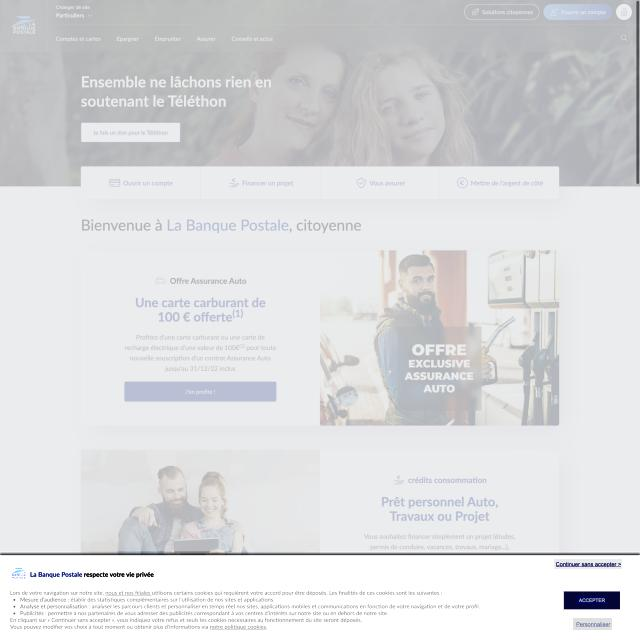CheckBox: (563, 591, 620, 610), (554, 559, 622, 569), (573, 618, 612, 630)
Input field: (4, 584, 480, 632)
data feed: (576, 596, 606, 605)
date picker: (8, 565, 27, 581)
header: (0, 551, 640, 640)
